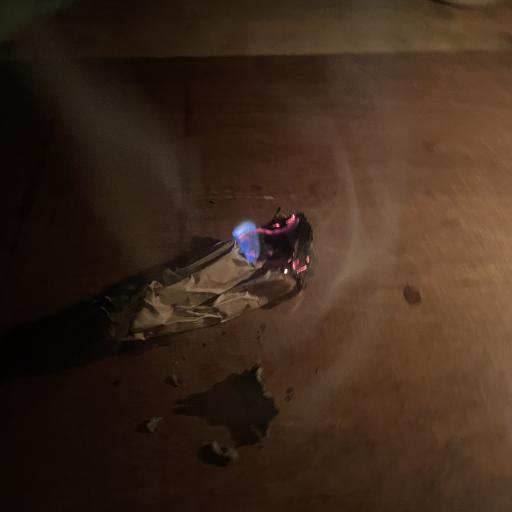fire: (232, 195, 329, 302)
